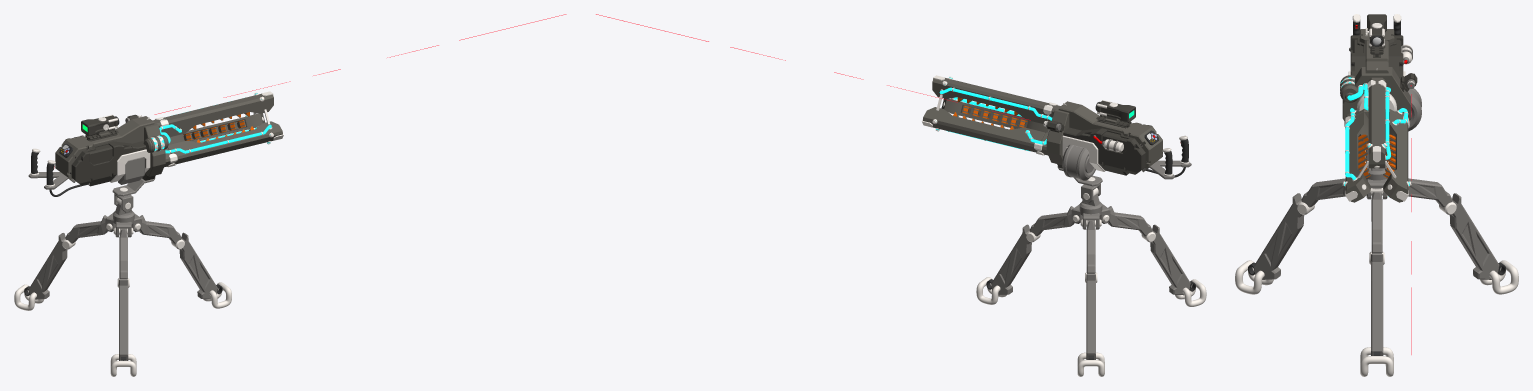
File: Minigun.fbx
The picture shows the model from 3 angles, left to right: view 1: azimuth 30°, elevation 25°; view 2: azimuth 150°, elevation 25°; view 3: azimuth 270°, elevation 25°; orthographic projection. The views are drawn at different scales.
Parts seen in each view (by area): view 1: Cube, Cube.003, Cube.031, Cube.029, Cube.024, Cube.002, Cube.007, Cube.027, Cube.006, Cube.017, Cylinder.004, Cube.028 (+4 smaller); view 2: Cube.002, Cube, Cube.031, Cube.027, Cube.024, Cube.003, Cube.007, Cylinder.003, Cube.029, Cube.006, Cube.017, Cylinder.004 (+5 smaller); view 3: Cube.027, Cube.029, Cube.002, Cube, Cube.024, Cube.003, Cylinder.004, Cube.031, Cube.025, Cube.028, Cube.013, NurbsPath.001 (+9 smaller).
Boxes of the visible parts, <box> form: Cube: <box>161,93,273,136</box>; Cube.003: <box>167,121,282,164</box>; Cube.031: <box>56,136,146,172</box>; Cube.029: <box>29,233,67,299</box>; Cube.024: <box>179,232,217,299</box>; Cube.002: <box>168,113,265,144</box>; Cube.007: <box>85,116,154,145</box>; Cube.027: <box>119,279,128,360</box>; Cube.006: <box>55,136,93,179</box>; Cube.017: <box>55,159,145,186</box>; Cylinder.004: <box>144,122,165,176</box>; Cube.028: <box>65,215,107,243</box>; Cube.002: <box>923,107,1045,152</box>; Cube: <box>932,78,1051,123</box>; Cube.031: <box>1063,123,1162,161</box>; Cube.027: <box>1150,224,1190,295</box>; Cube.024: <box>991,224,1031,295</box>; Cube.003: <box>941,98,1048,132</box>; Cube.007: <box>1058,101,1130,132</box>; Cylinder.003: <box>1062,145,1095,180</box>; Cube.029: <box>1086,273,1095,359</box>; Cube.006: <box>1122,122,1162,168</box>; Cube.017: <box>1068,145,1162,175</box>; Cylinder.004: <box>1046,108,1069,164</box>; Cube.027: <box>1254,193,1304,279</box>; Cube.029: <box>1449,193,1499,279</box>; Cube.002: <box>1383,112,1408,202</box>; Cube: <box>1368,83,1385,168</box>; Cube.024: <box>1371,253,1383,355</box>; Cube.003: <box>1345,112,1370,202</box>; Cylinder.004: <box>1342,67,1411,120</box>; Cube.031: <box>1350,35,1403,79</box>; Cube.025: <box>1301,178,1345,207</box>; Cube.028: <box>1408,178,1452,207</box>; Cube.013: <box>1371,188,1382,253</box>; NurbsPath.001: <box>1235,260,1273,294</box>.
Bounding box in the file's own units: 2046 × 778 × 714.
